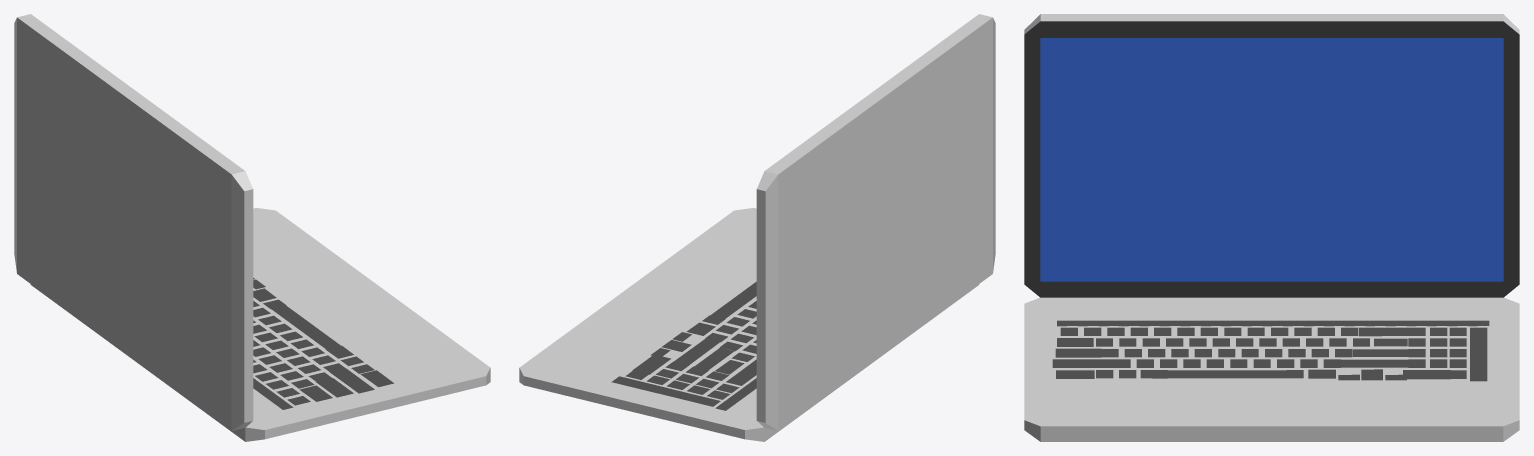
The model's file is laptop.fbx.
3 views of the same model, side by side, from view 1: azimuth 30°, elevation 25°; view 2: azimuth 150°, elevation 25°; view 3: azimuth 270°, elevation 25° (orthographic). The views are drawn at different scales.
Visible parts, largest first — view 1: low_poly_interior_117; view 2: low_poly_interior_117; view 3: low_poly_interior_117.
Boxes of the visible parts, x1=… form: low_poly_interior_117: x1=14, y1=14, x2=490, y2=441; low_poly_interior_117: x1=519, y1=14, x2=995, y2=441; low_poly_interior_117: x1=1024, y1=14, x2=1519, y2=441.
Bounding box in the file's own units: 0.2404 × 0.2403 × 0.3699.
